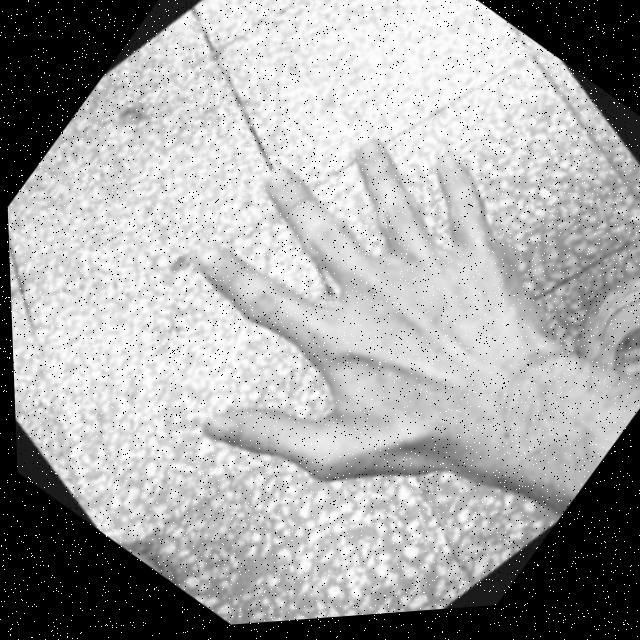no-gloves: (97, 51, 590, 566)
